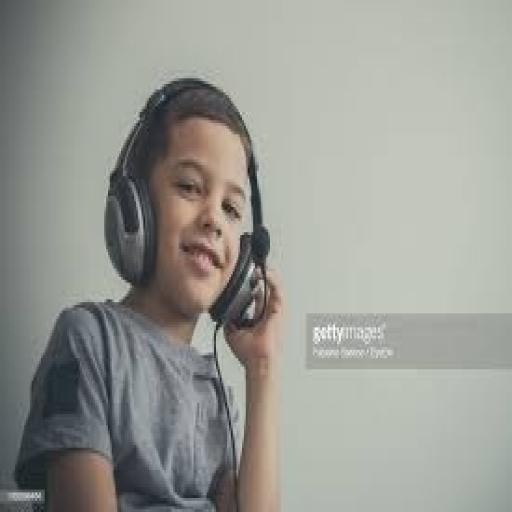listening_to_music: (13, 73, 287, 509)
